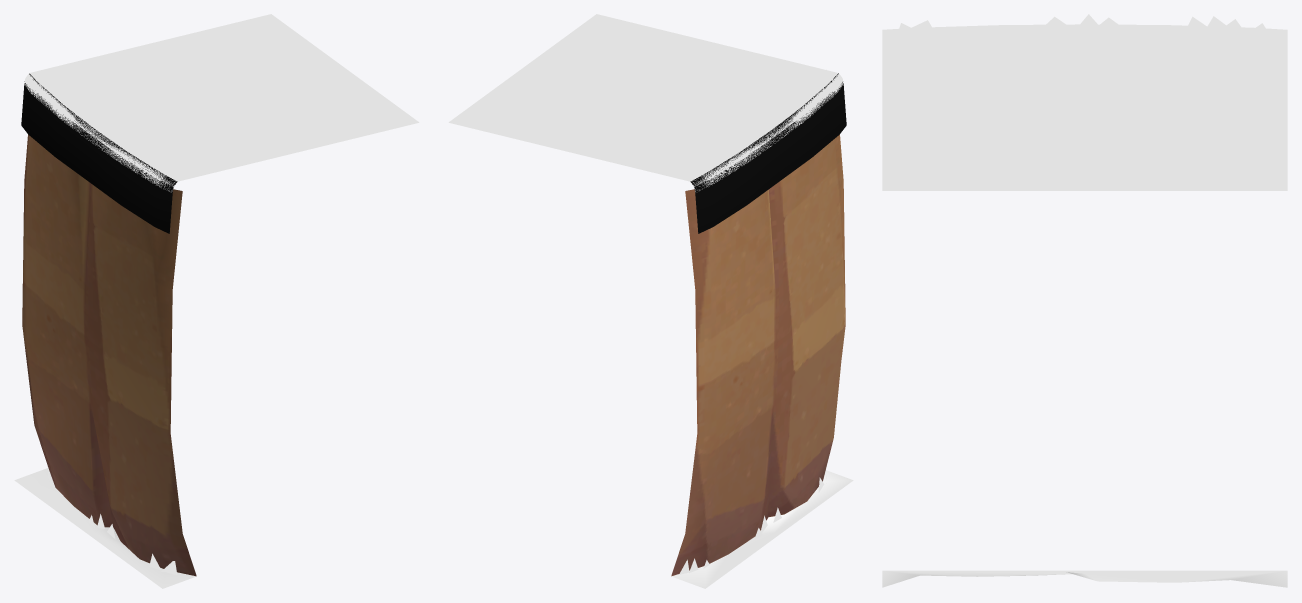
The picture shows the model from 3 angles, left to right: view 1: azimuth 30°, elevation 25°; view 2: azimuth 150°, elevation 25°; view 3: azimuth 270°, elevation 25°; orthographic projection. The views are drawn at different scales.
Visible parts, largest first — view 1: CliffA__mCliff, GrassT__mGrass, GrassOP__mGrassCliffXlu, GrassB__mGrass; view 2: CliffA__mCliff, GrassT__mGrass, GrassOP__mGrassCliffXlu, GrassB__mGrass; view 3: GrassT__mGrass, GrassB__mGrass, PGrassBC__mProcGrass.
Boxes of the visible parts, bbox=[...] form: CliffA__mCliff: bbox=[22, 134, 196, 576]; GrassT__mGrass: bbox=[24, 14, 419, 192]; GrassOP__mGrassCliffXlu: bbox=[21, 73, 177, 233]; GrassB__mGrass: bbox=[14, 468, 196, 588]; CliffA__mCliff: bbox=[671, 134, 845, 576]; GrassT__mGrass: bbox=[448, 14, 843, 191]; GrassOP__mGrassCliffXlu: bbox=[690, 73, 846, 233]; GrassB__mGrass: bbox=[671, 470, 853, 588]; GrassT__mGrass: bbox=[882, 24, 1287, 190]; GrassB__mGrass: bbox=[882, 570, 1287, 587]; PGrassBC__mProcGrass: bbox=[897, 14, 1266, 33].
Size of the model in its own units: 10 by 15.34 by 10.
4 materials, 1 textured.
